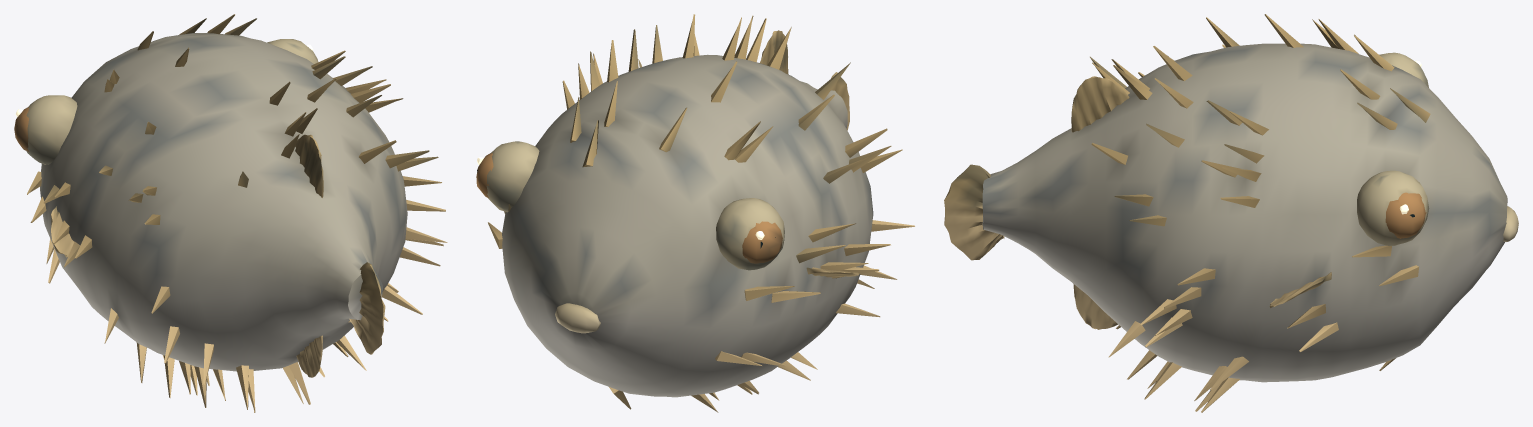
Rendered from puffer.glb.
3 views of the same model, side by side, from view 1: azimuth 30°, elevation 25°; view 2: azimuth 150°, elevation 25°; view 3: azimuth 270°, elevation 25° (orthographic). The views are drawn at different scales.
Parts seen in each view (by area): view 1: puffer; view 2: puffer; view 3: puffer.
Part boxes in pixels (x1,y1,x2,y2): puffer: (14, 14, 447, 412); puffer: (476, 14, 914, 412); puffer: (944, 14, 1518, 412).
Bounding box in the file's own units: 0.4004 × 0.3769 × 0.5488.
